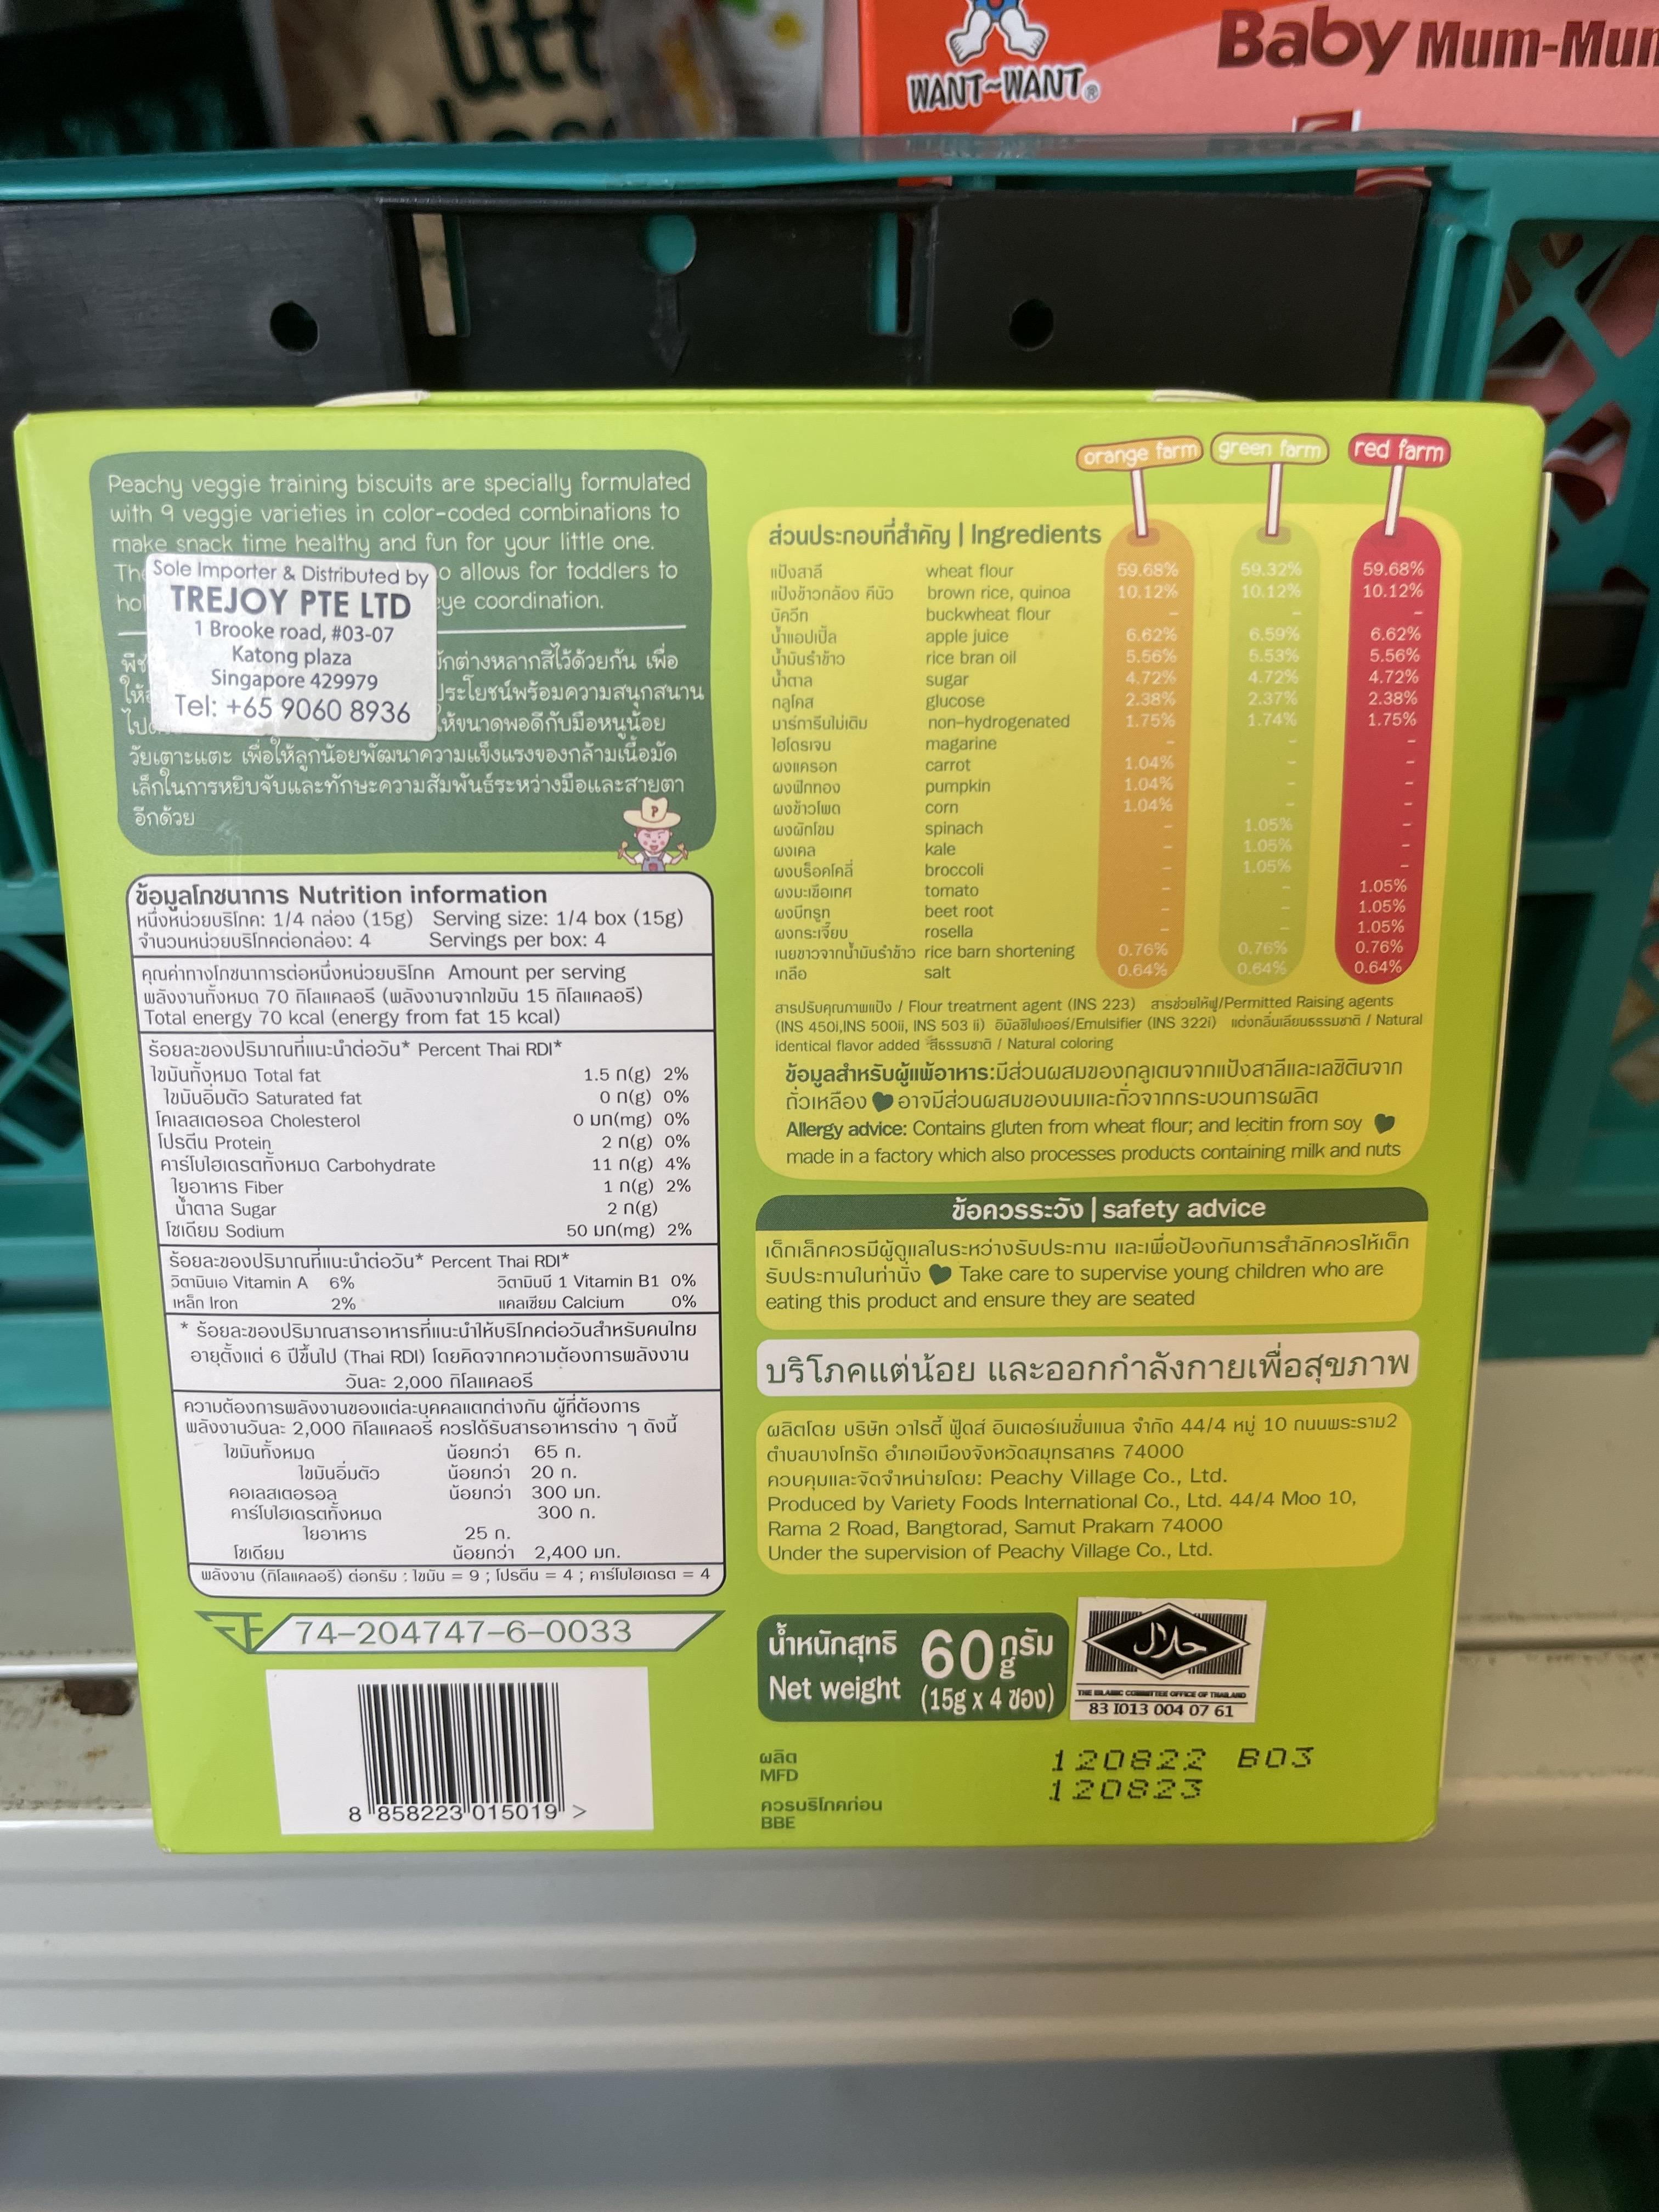object_name: (5, 383, 1581, 1869)
